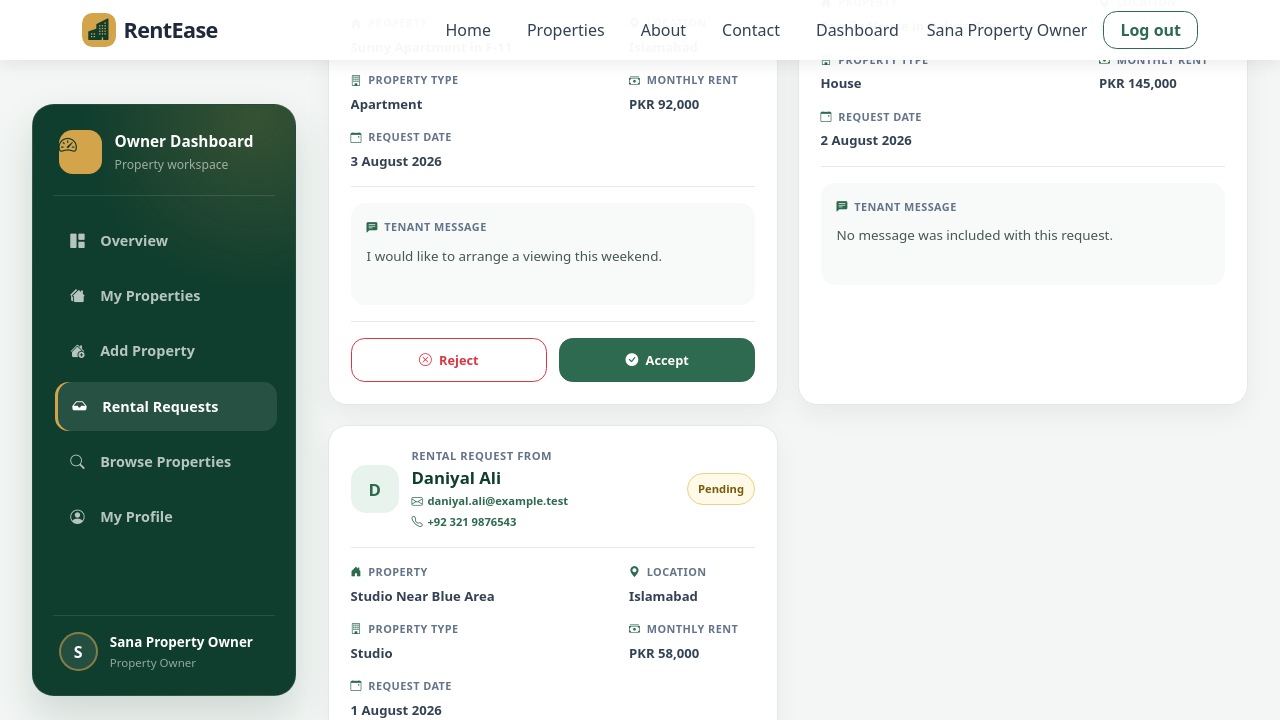
Test case: Owner rental requests page › accepts and rejects pending requests and updates their displayed status
This screenshot has width=1280, height=720.
(page scrolled)
Click the button "Accept" at (657, 360), box x1=559 y1=338 x2=755 y2=382
(page scrolled)
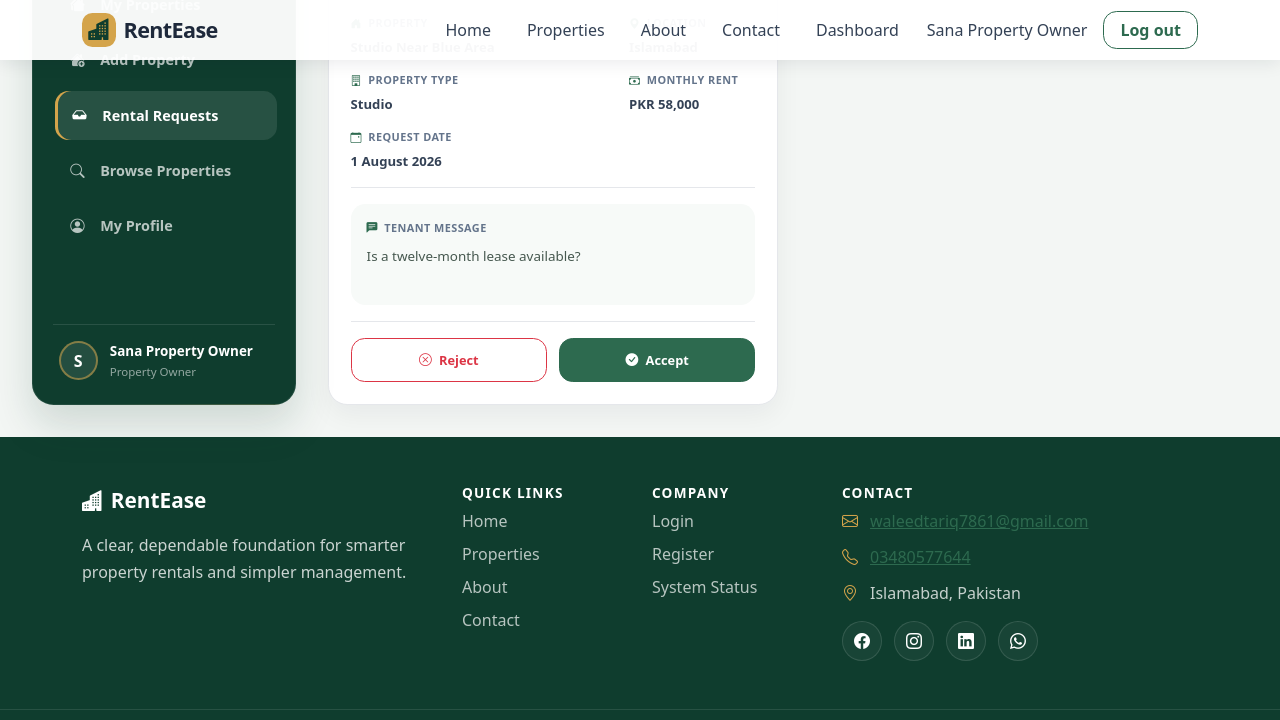
Click the button "Reject" at (449, 360), box x1=351 y1=338 x2=547 y2=382
(page scrolled)
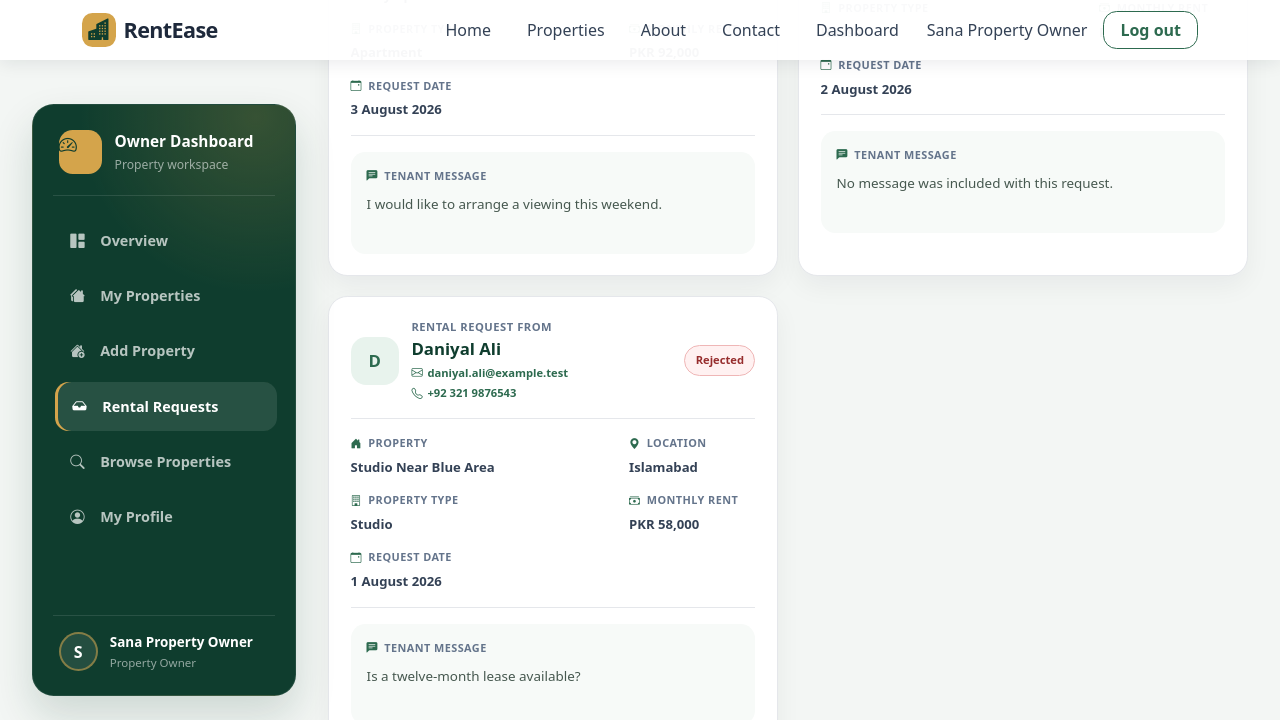
Check: the text named "Status: Rejected" is shown, box x1=684 y1=345 x2=755 y2=376
